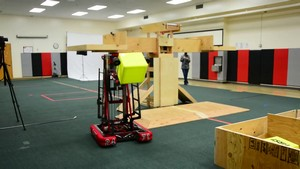cube: (114, 52, 149, 84)
